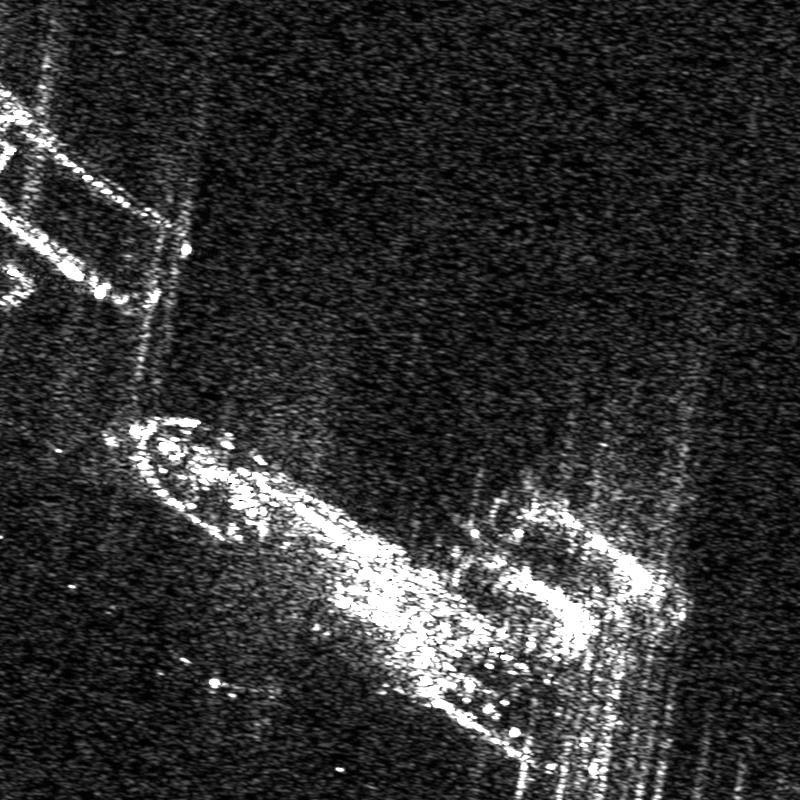ship: (129, 412, 623, 779), (0, 91, 190, 308)
